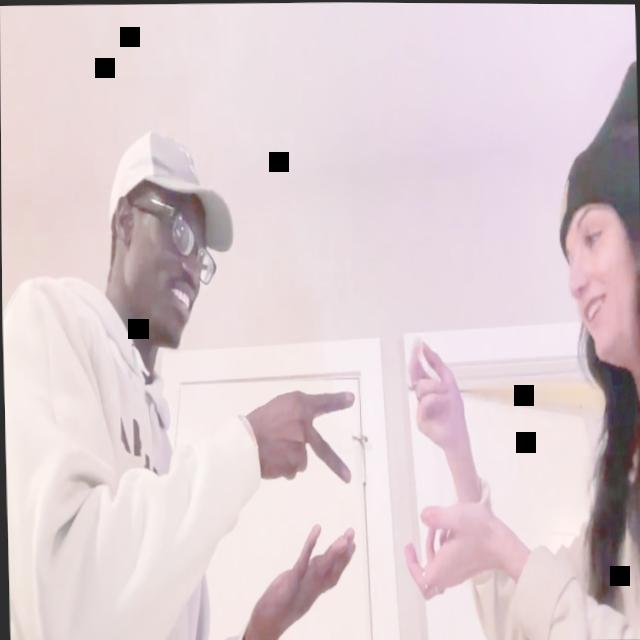Scissors: (253, 384, 356, 492)
